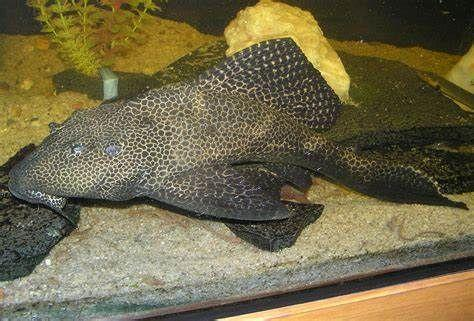Janitor Fish: (9, 38, 468, 225)
